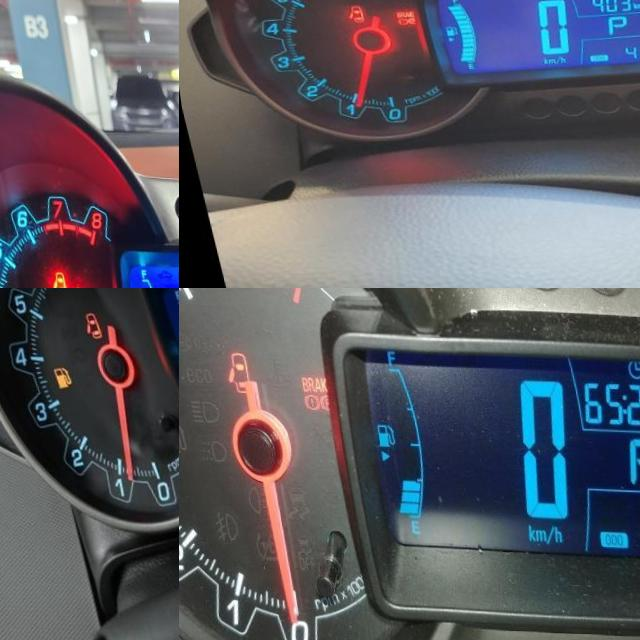Doors: (69, 308, 94, 340), (338, 2, 357, 21)
Low fuel level: (39, 364, 62, 388)
